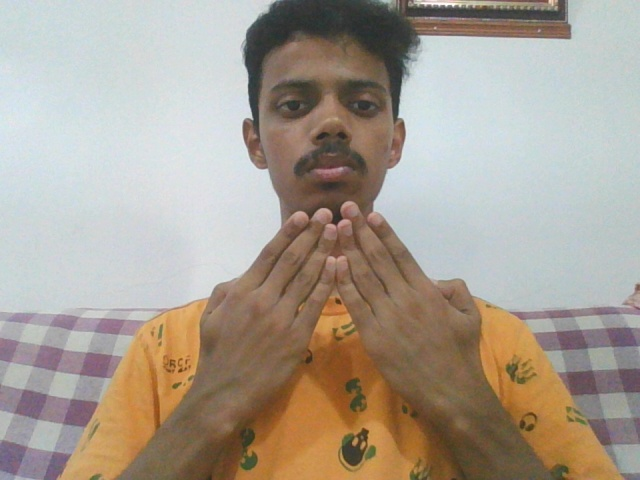ThankYou: (197, 199, 484, 411)
